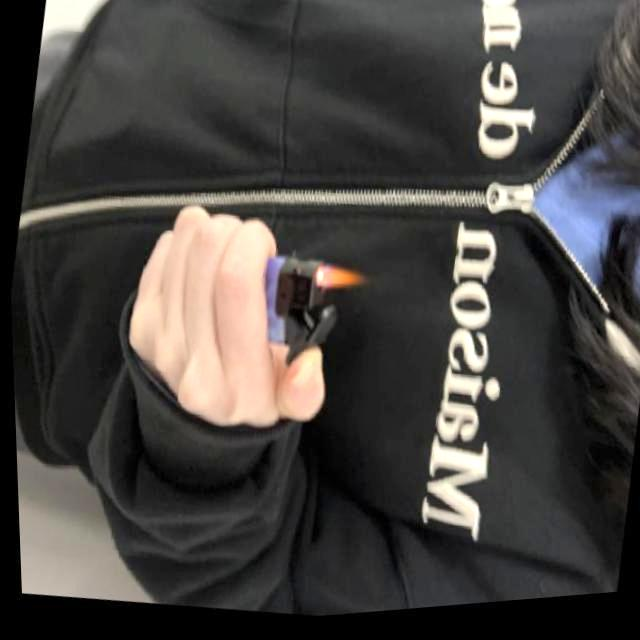fire: (310, 262, 370, 302)
